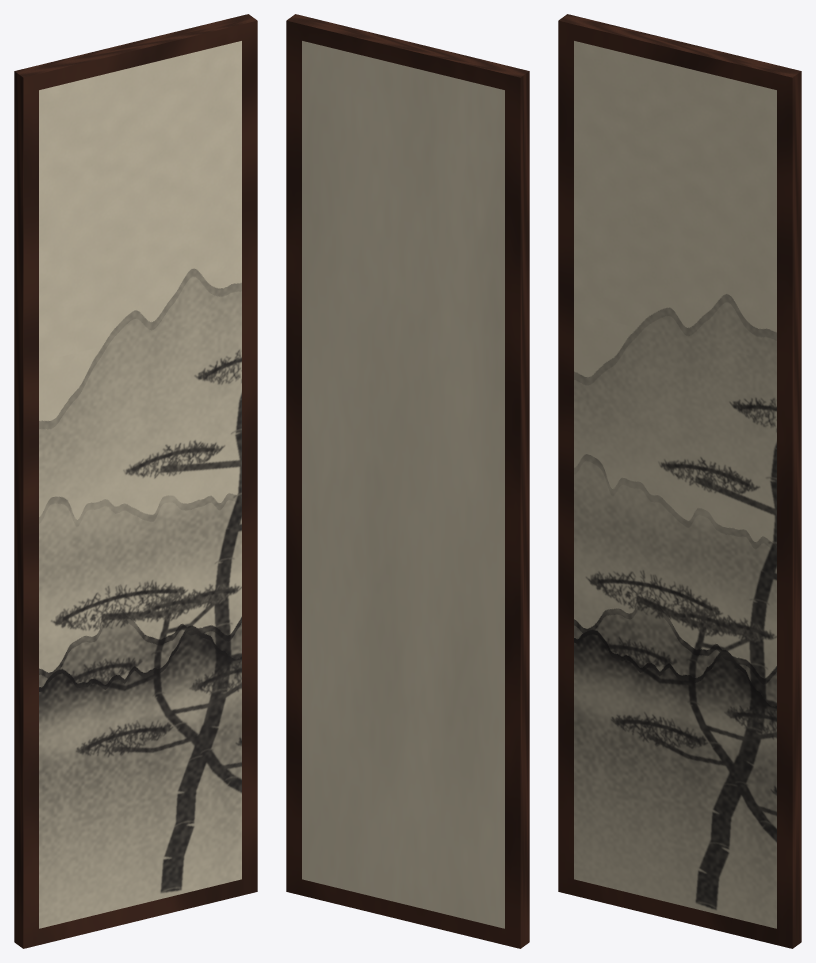
Rendered from z3_biombo_panel_1.obj.
3 renders of one model, left to right at view 1: azimuth 30°, elevation 25°; view 2: azimuth 150°, elevation 25°; view 3: azimuth 330°, elevation 25°, orthographic.
Visible parts, largest first — view 1: Cube; view 2: Cube; view 3: Cube.
Boxes of the visible parts, box(x1,y1,x2,y2) form: Cube: box(14, 14, 257, 948); Cube: box(286, 14, 529, 948); Cube: box(558, 14, 801, 948).
Bounding box in the file's own units: 0.45 × 1.6 × 0.03.
3 materials, 3 textured.
